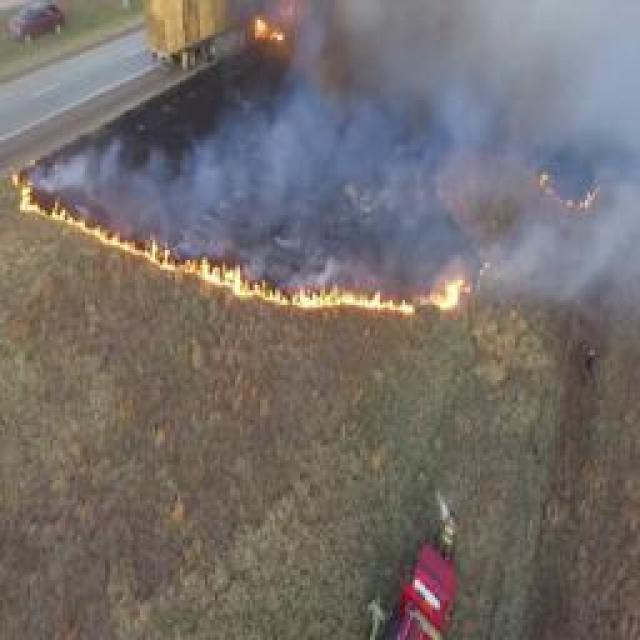Fire: (43, 194, 139, 268), (290, 265, 415, 316), (152, 243, 250, 304), (426, 269, 469, 344), (239, 10, 300, 42), (0, 168, 35, 221), (252, 275, 288, 303)
Smoke: (387, 9, 622, 202), (147, 112, 378, 221)
